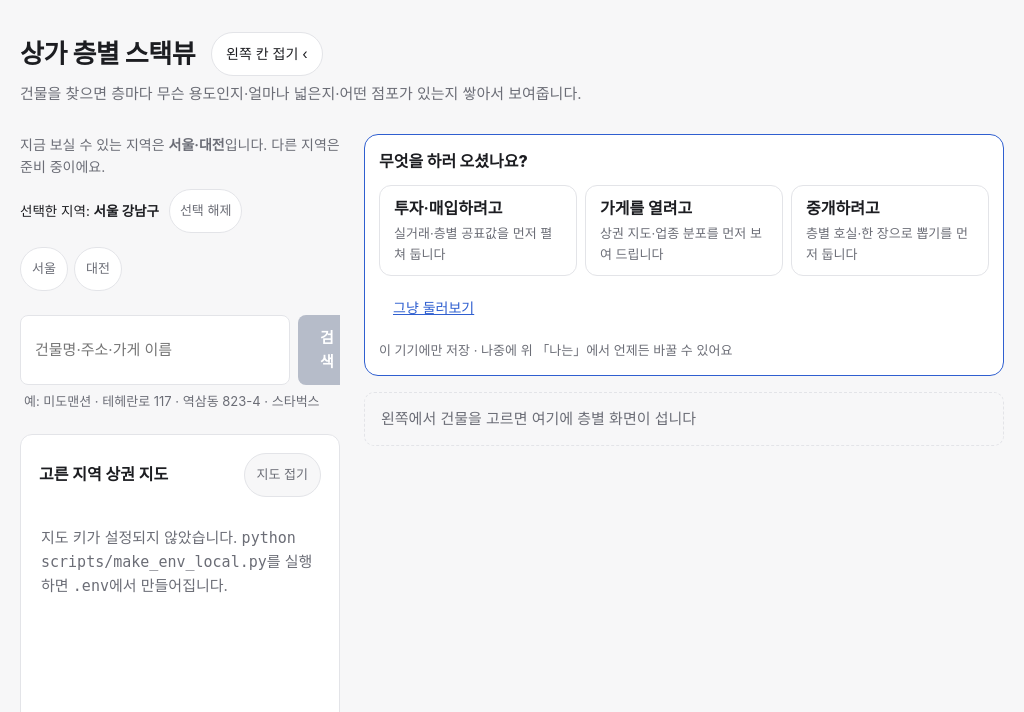
Test: App — 역할 고르기 큰 카드 (결정 0039 W3) › ★ 카드를 누르면 그 역할이 저장되고 카드가 사라지며 작은 줄에 그 역할이 눌린다 · 주소에는 안 실린다
Expected: the button "서울" is shown, [20,247,68,291]
What coordinates should you click on to do the following:
click the button "가게를 열려고 상권 지도·업종 분포를 먼저 보여 드립니다"
I would click on:
 (684, 230)
Its box is [585,185,783,276].
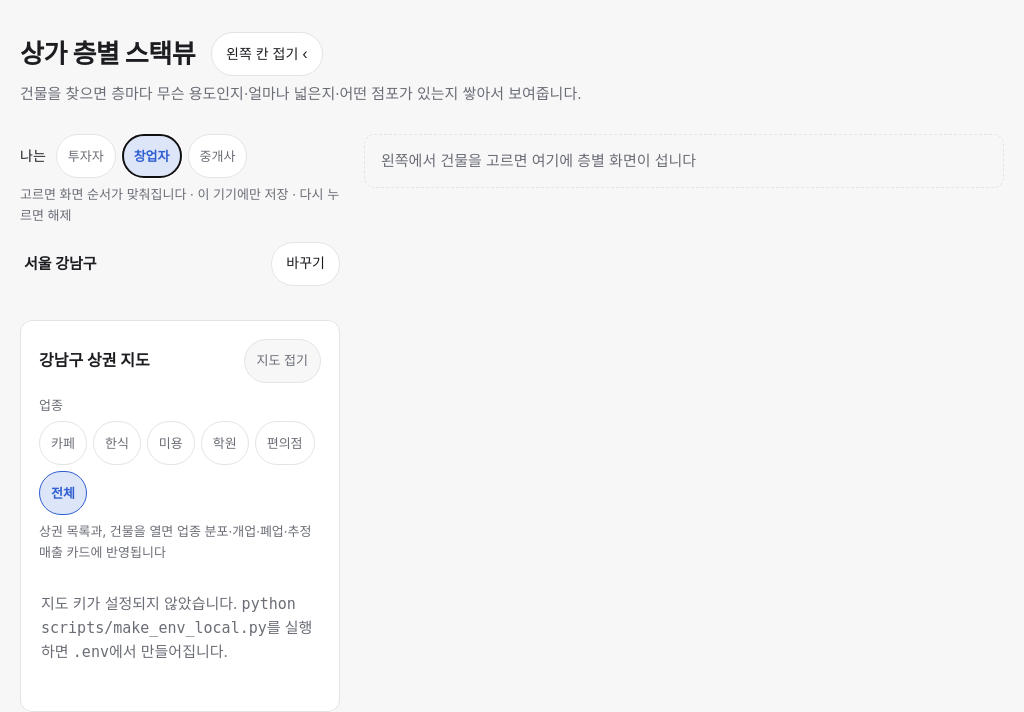
Now the button "창업자" is shown, box [122,134,182,178]
Now the element with class "rolecards" is gone
Now the element with class "role" is shown, box [20,134,340,226]
